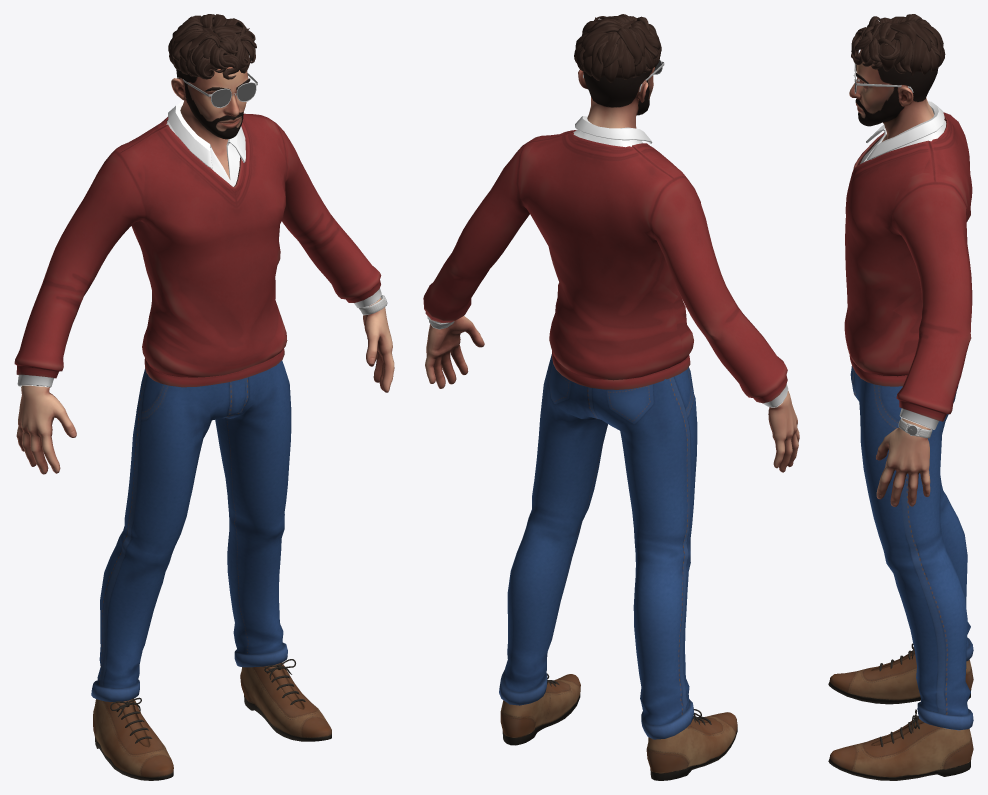
Rendered from Seth_Fix.fbx.
The picture shows the model from 3 angles, left to right: view 1: azimuth 30°, elevation 25°; view 2: azimuth 150°, elevation 25°; view 3: azimuth 270°, elevation 25°; orthographic projection.
Visible parts, largest first — view 1: main_cloth, pants, body.001, shoe_base, hair, shirt, shoelace; view 2: main_cloth, pants, body.001, shoe_base, hair, shirt; view 3: main_cloth, pants, shoe_base, body.001, hair, shirt, shoelace.
Boxes of the visible parts, x1,y1,x2,y2 form: main_cloth: (14,113,381,387); pants: (91,360,291,701); body.001: (16,67,394,474); shoe_base: (93,663,331,780); hair: (168,14,256,79); shirt: (166,101,245,186); shoelace: (110,659,305,743); main_cloth: (423,130,788,407); pants: (499,354,697,739); body.001: (425,67,799,472); shoe_base: (500,674,737,780); hair: (574,14,661,82); shirt: (573,116,652,147); main_cloth: (844,112,972,429); pants: (850,366,973,730); shoe_base: (828,649,973,780); body.001: (849,49,938,506); hair: (851,14,945,76); shirt: (860,101,946,163); shoelace: (879,643,919,746).
Bounding box in the file's own units: 103 × 194 × 35.86.
